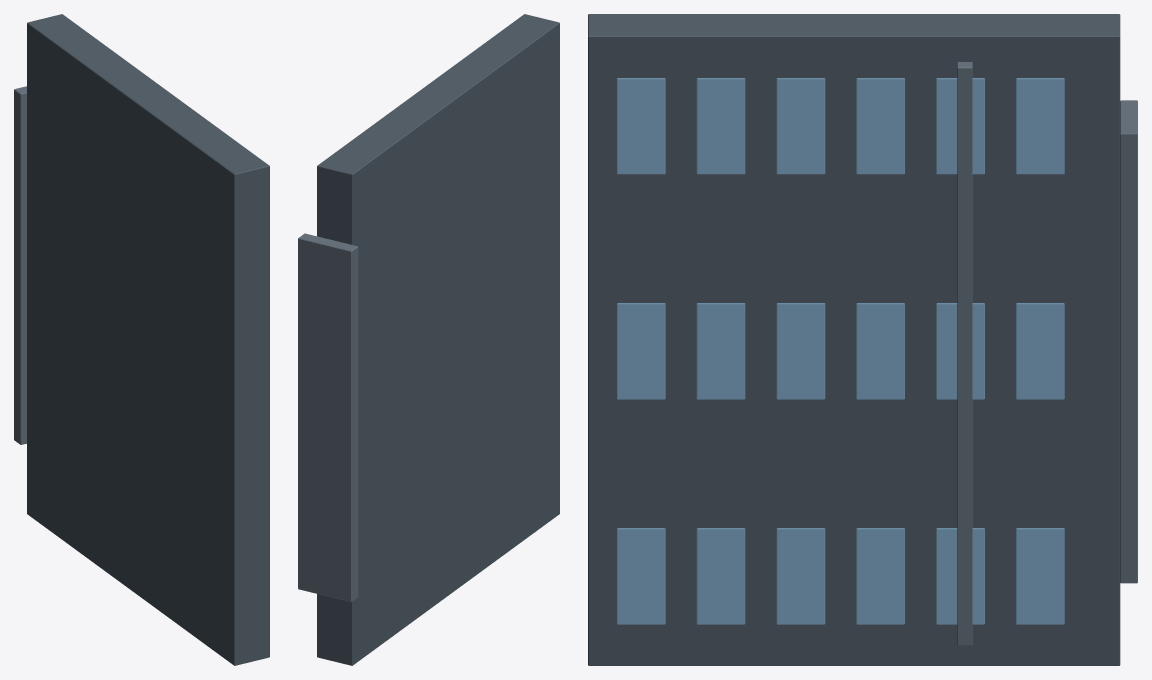
Rendered from far_facade_shell_rift_l.glb.
The picture shows the model from 3 angles, left to right: view 1: azimuth 30°, elevation 25°; view 2: azimuth 150°, elevation 25°; view 3: azimuth 270°, elevation 25°; orthographic projection. The views are drawn at different scales.
Visible parts, largest first — view 1: FlightKit_FarFacadeShell_rift_L; view 2: FlightKit_FarFacadeShell_rift_L; view 3: FlightKit_FarFacadeShell_rift_L.
Boxes of the visible parts, left/top/right/bottom form: FlightKit_FarFacadeShell_rift_L: left=14, top=14, right=269, bottom=665; FlightKit_FarFacadeShell_rift_L: left=298, top=14, right=559, bottom=665; FlightKit_FarFacadeShell_rift_L: left=588, top=14, right=1137, bottom=665.
Bounding box in the file's own units: 1.8 × 15.68 × 12.4.
